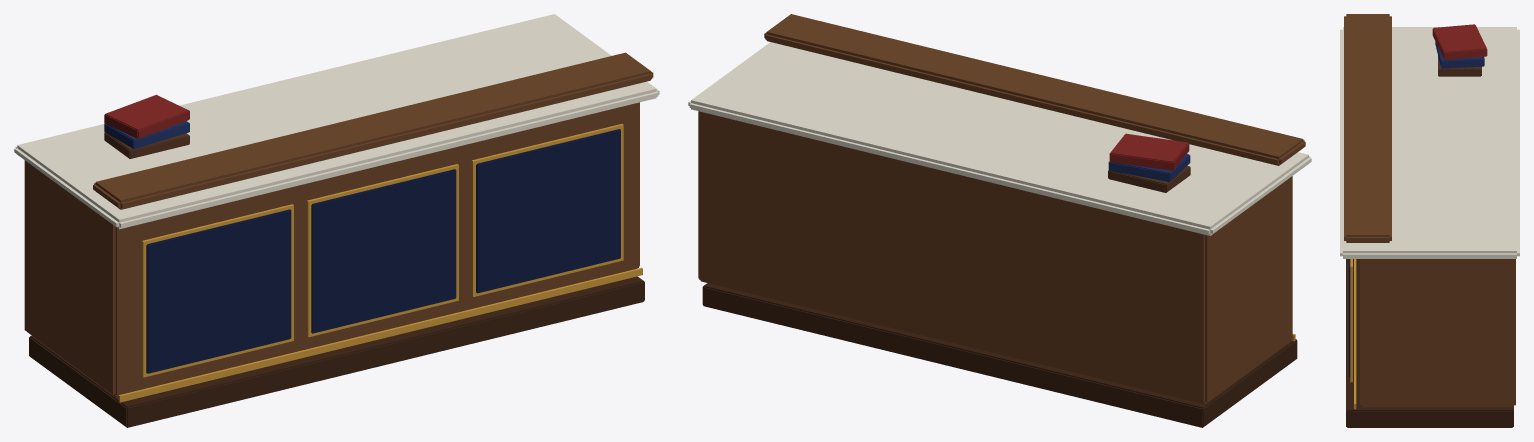
File: refdesk.glb
The picture shows the model from 3 angles, left to right: view 1: azimuth 30°, elevation 25°; view 2: azimuth 150°, elevation 25°; view 3: azimuth 270°, elevation 25°; orthographic projection. The views are drawn at different scales.
Parts seen in each view (by area): view 1: refdesk_wood, refdesk_navy, refdesk_marble, refdesk_wood_dark, refdesk_brass, refdesk_books; view 2: refdesk_wood, refdesk_marble, refdesk_wood_dark, refdesk_books; view 3: refdesk_wood, refdesk_marble, refdesk_wood_dark, refdesk_books, refdesk_brass, refdesk_navy.
Boxes of the visible parts, <box> form: refdesk_wood: <box>24,52,653,396</box>; refdesk_navy: <box>146,129,620,373</box>; refdesk_marble: <box>14,14,659,229</box>; refdesk_wood_dark: <box>29,276,644,427</box>; refdesk_brass: <box>118,124,642,402</box>; refdesk_books: <box>104,94,189,158</box>; refdesk_wood: <box>698,14,1305,404</box>; refdesk_marble: <box>688,42,1311,235</box>; refdesk_wood_dark: <box>702,283,1297,427</box>; refdesk_books: <box>1108,133,1190,192</box>; refdesk_wood: <box>1344,14,1515,407</box>; refdesk_marble: <box>1340,27,1519,258</box>; refdesk_wood_dark: <box>1346,259,1513,427</box>; refdesk_books: <box>1432,24,1487,76</box>; refdesk_brass: <box>1350,259,1356,409</box>; refdesk_navy: <box>1349,259,1350,377</box>.
Bounding box in the file's own units: 2.68 × 1.16 × 0.9.
